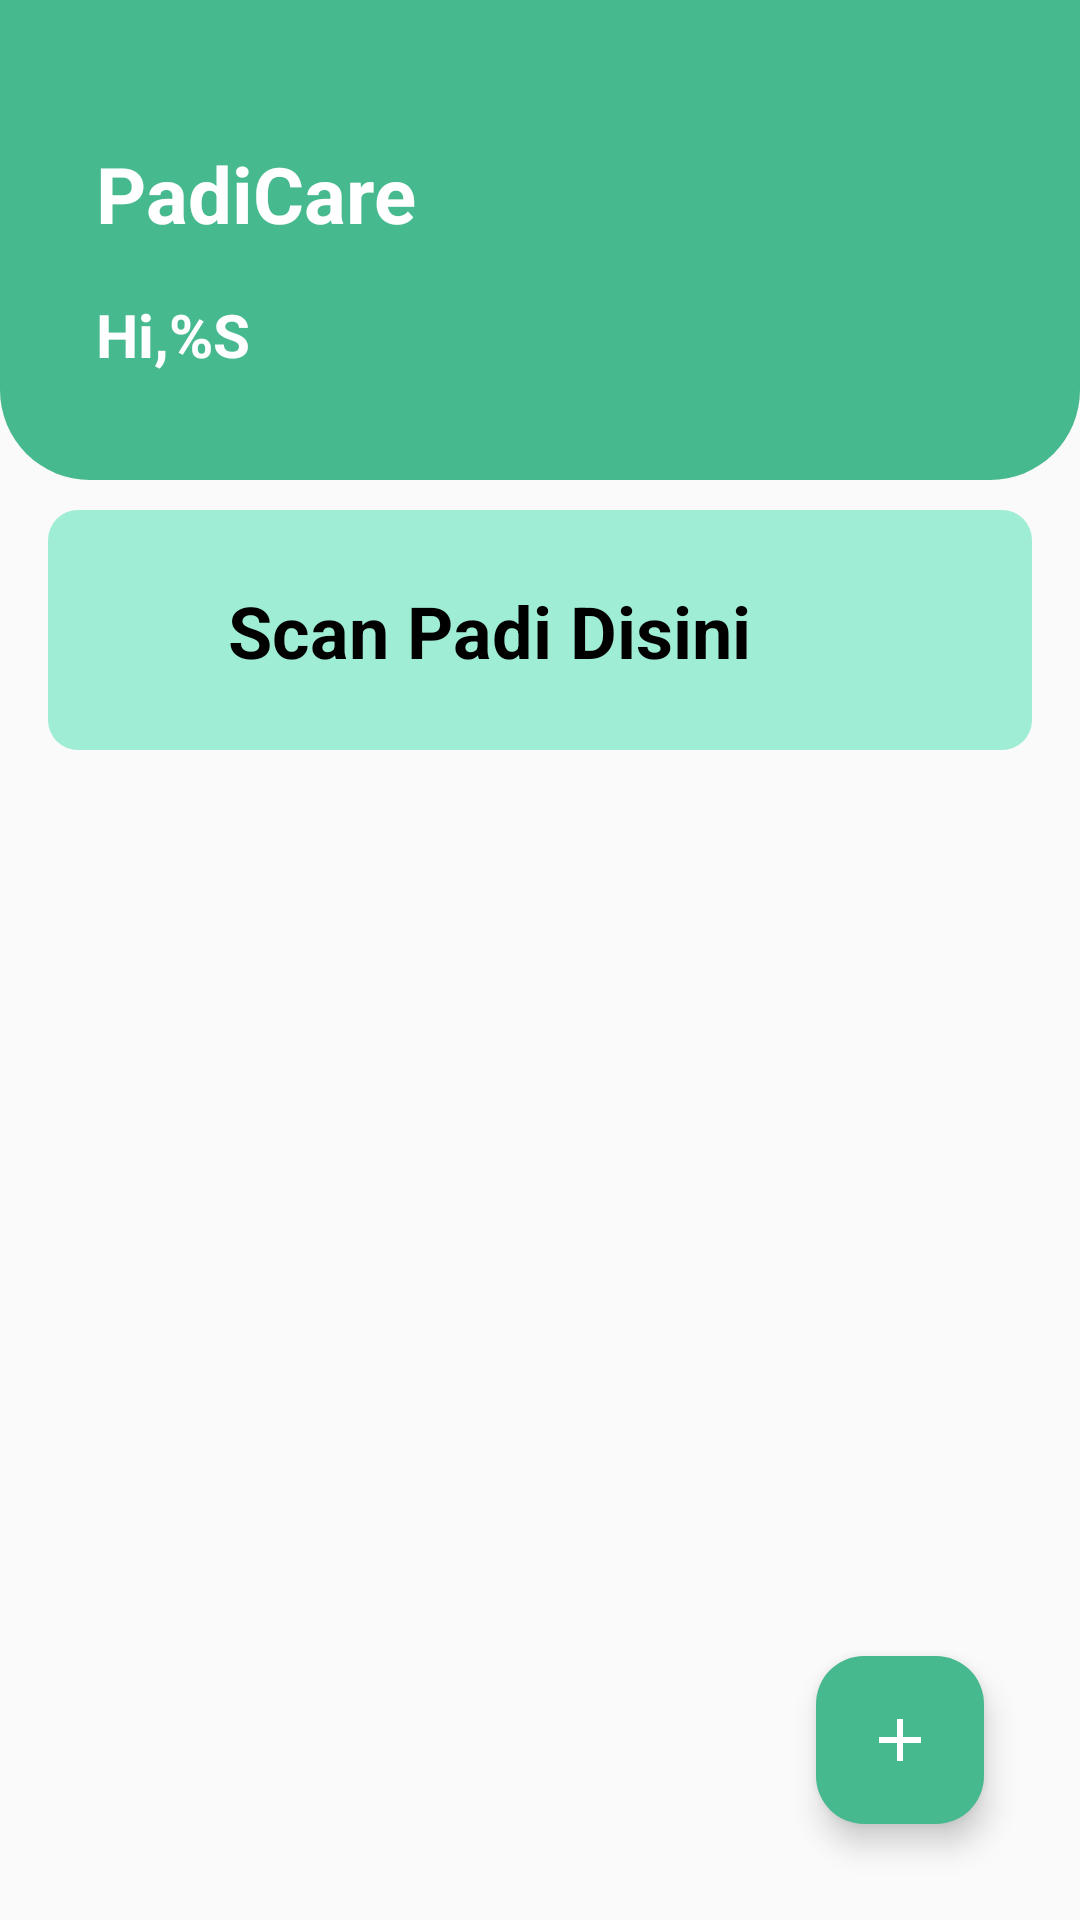

Screen size 1080w x 1920h. Icon name, then its center in pixels as point (x, y):
Menambahkan Postingan: point (900, 1740)
